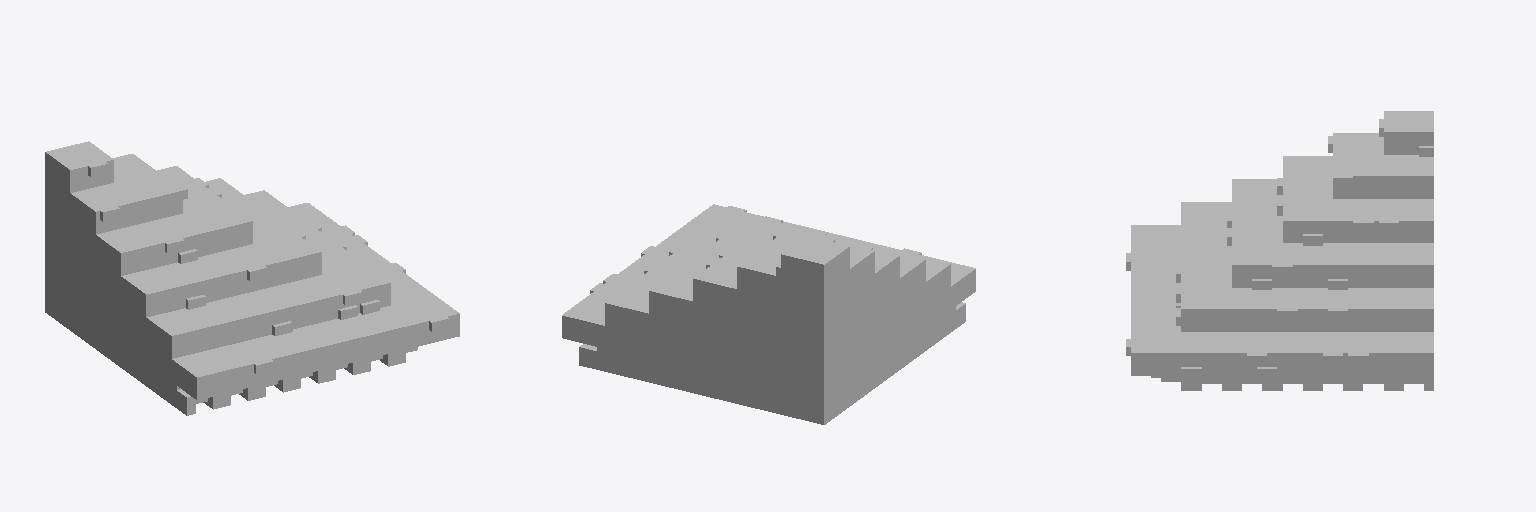
The model's file is House-4-House Ceil Corner.obj.
The picture shows the model from 3 angles: view 1: azimuth 30°, elevation 25°; view 2: azimuth 150°, elevation 25°; view 3: azimuth 270°, elevation 25°; orthographic projection.
Visible parts, largest first — view 1: House Ceil Corner; view 2: House Ceil Corner; view 3: House Ceil Corner.
Part boxes in pixels (x1,y1,x2,y2): House Ceil Corner: (45,141,459,415); House Ceil Corner: (562,204,975,424); House Ceil Corner: (1126,111,1433,390).
Size of the model in its own units: 6.1 by 3.5 by 6.1.